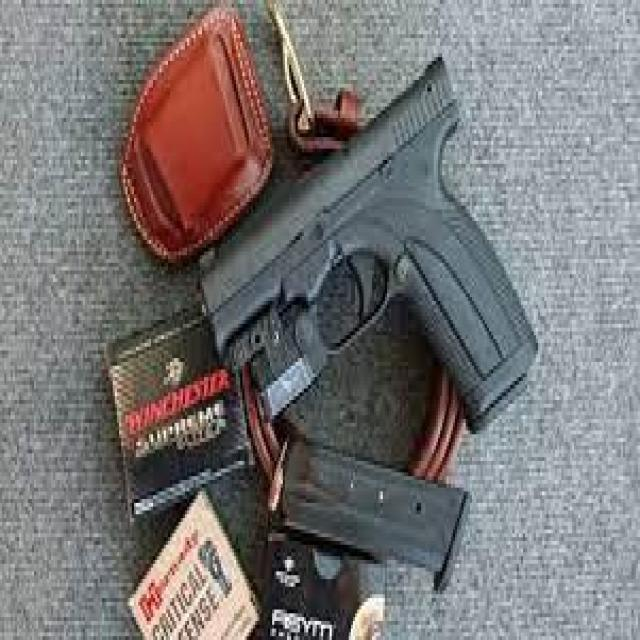Gun: (198, 33, 544, 446)
